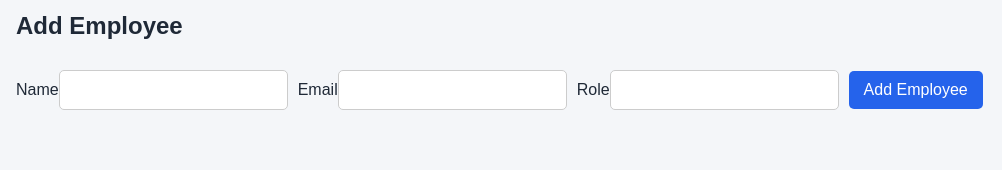
Test case: EmployeeForm Component › shows error when fields are empty
The width and height of the screenshot is (1002, 170).
Step 1. Click the button "Add Employee" → [916, 90], box [849, 71, 983, 109]
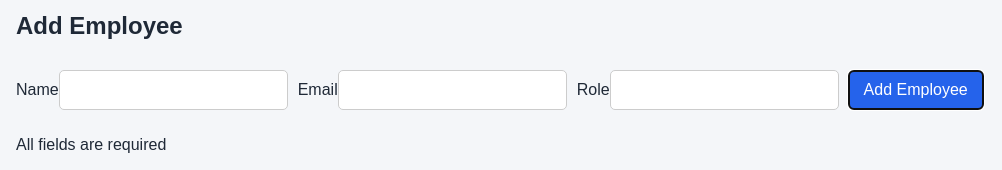
Now the message reads "All fields are required", box [16, 136, 166, 153]
